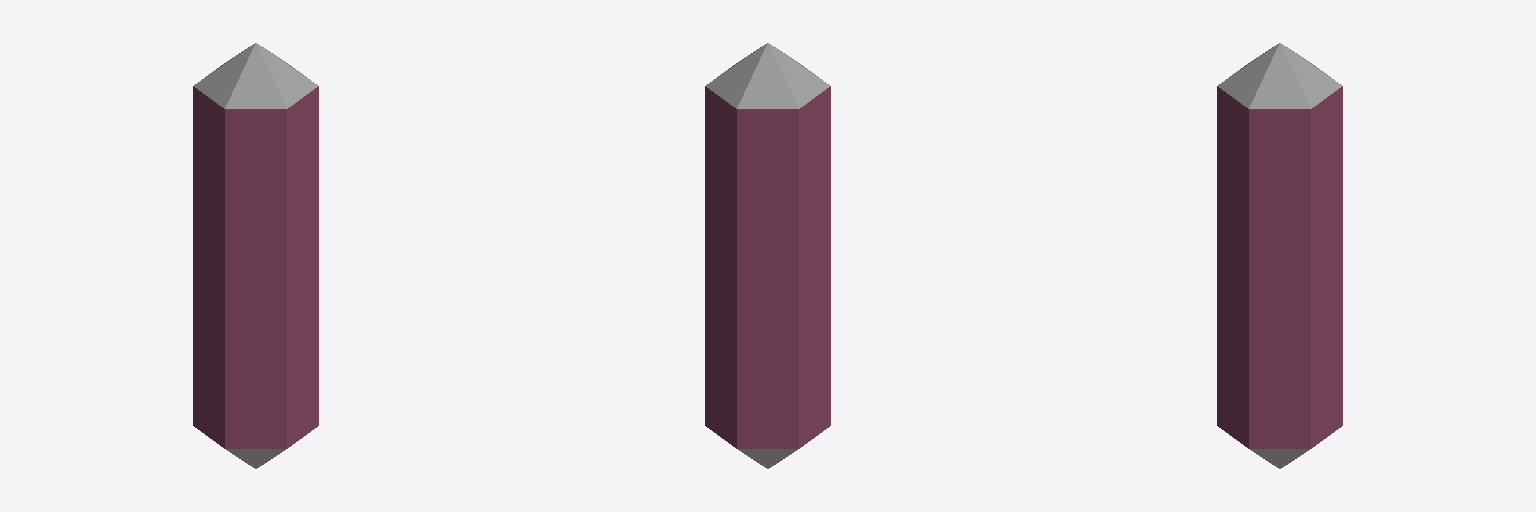
Rendered from hex_crystal_med.obj.
3 renders of one model, left to right at view 1: azimuth 30°, elevation 25°; view 2: azimuth 150°, elevation 25°; view 3: azimuth 270°, elevation 25°, orthographic.
Visible parts, largest first — view 1: Cylinder; view 2: Cylinder; view 3: Cylinder.
Boxes of the visible parts, x1=… form: Cylinder: x1=193, y1=43, x2=318, y2=468; Cylinder: x1=705, y1=43, x2=830, y2=468; Cylinder: x1=1217, y1=43, x2=1342, y2=468.
Size of the model in its own units: 0.433 by 1.88 by 0.5.